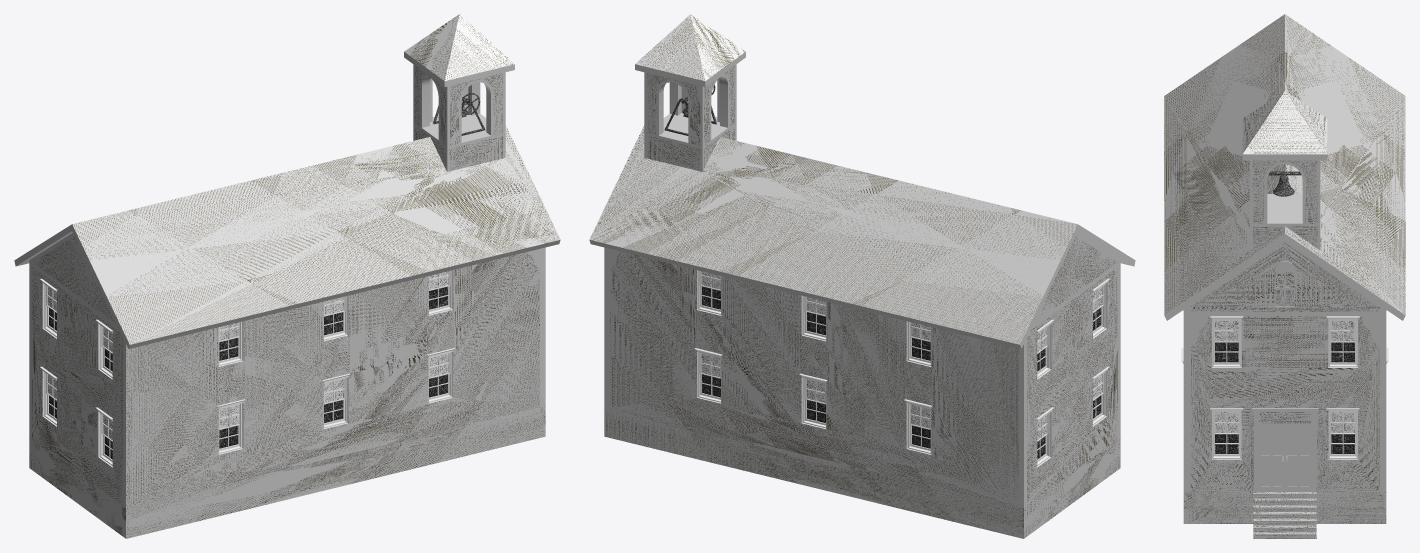
3 renders of one model, left to right at view 1: azimuth 30°, elevation 25°; view 2: azimuth 150°, elevation 25°; view 3: azimuth 270°, elevation 25°, orthographic. The views are drawn at different scales.
Visible parts, largest first — view 1: mesh14_mesh14-geometry, mesh12_mesh12-geometry, mesh4_mesh4-geometry, mesh7_mesh7-geometry; view 2: mesh14_mesh14-geometry, mesh12_mesh12-geometry, mesh4_mesh4-geometry, mesh7_mesh7-geometry; view 3: mesh14_mesh14-geometry, mesh7_mesh7-geometry, mesh4_mesh4-geometry, mesh12_mesh12-geometry, mesh1_mesh1-geometry.
Part boxes in pixels (x1,y1,x2,y2): mesh14_mesh14-geometry: (14, 14, 560, 538); mesh12_mesh12-geometry: (40, 270, 455, 467); mesh4_mesh4-geometry: (47, 286, 449, 461); mesh7_mesh7-geometry: (46, 271, 450, 441); mesh14_mesh14-geometry: (589, 14, 1135, 538); mesh12_mesh12-geometry: (694, 270, 1109, 467); mesh4_mesh4-geometry: (700, 286, 1102, 461); mesh7_mesh7-geometry: (699, 271, 1103, 441); mesh14_mesh14-geometry: (1164, 14, 1405, 538); mesh7_mesh7-geometry: (1213, 320, 1356, 434); mesh4_mesh4-geometry: (1213, 342, 1356, 456); mesh12_mesh12-geometry: (1181, 310, 1388, 459); mesh1_mesh1-geometry: (1273, 175, 1294, 196).
Size of the model in its own units: 0.7278 by 0.6064 by 0.3202.
